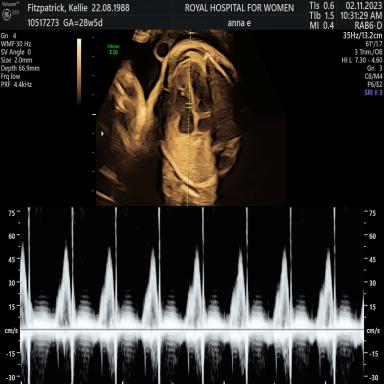Ultrasound-Waves: (25, 207, 364, 384)
